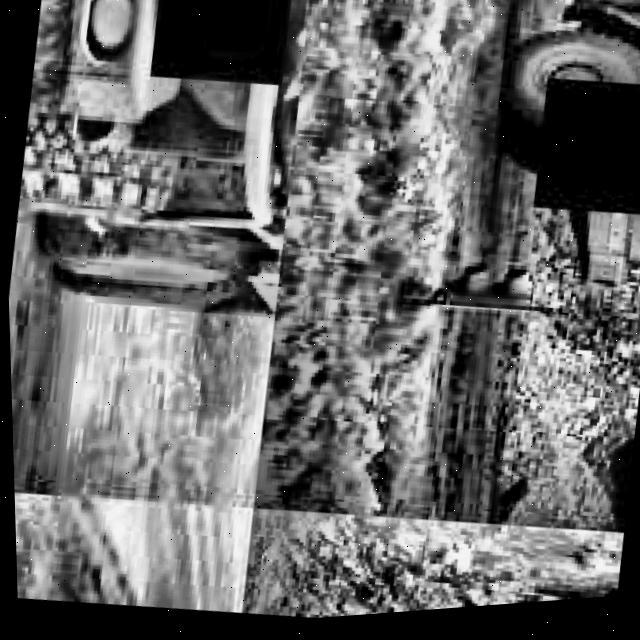dump_truck: (0, 0, 318, 376)
